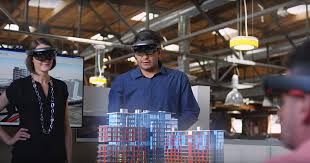hololens: (23, 48, 58, 62), (130, 42, 162, 56)
